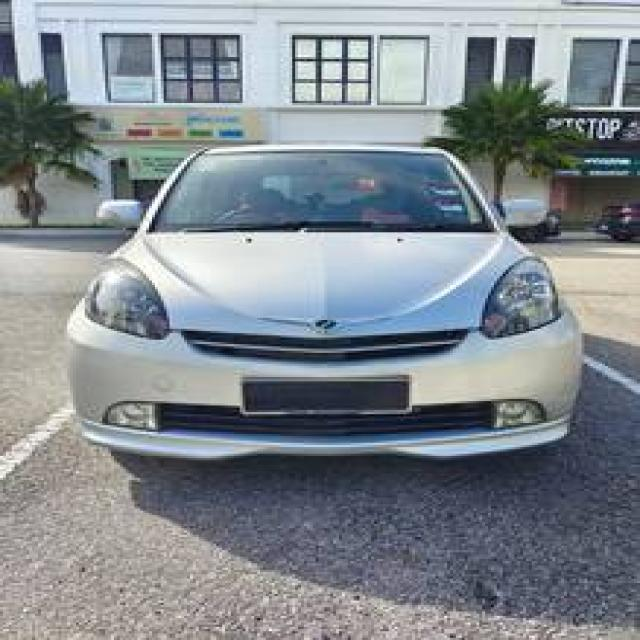PeroduaMyvi: (61, 140, 584, 462)
